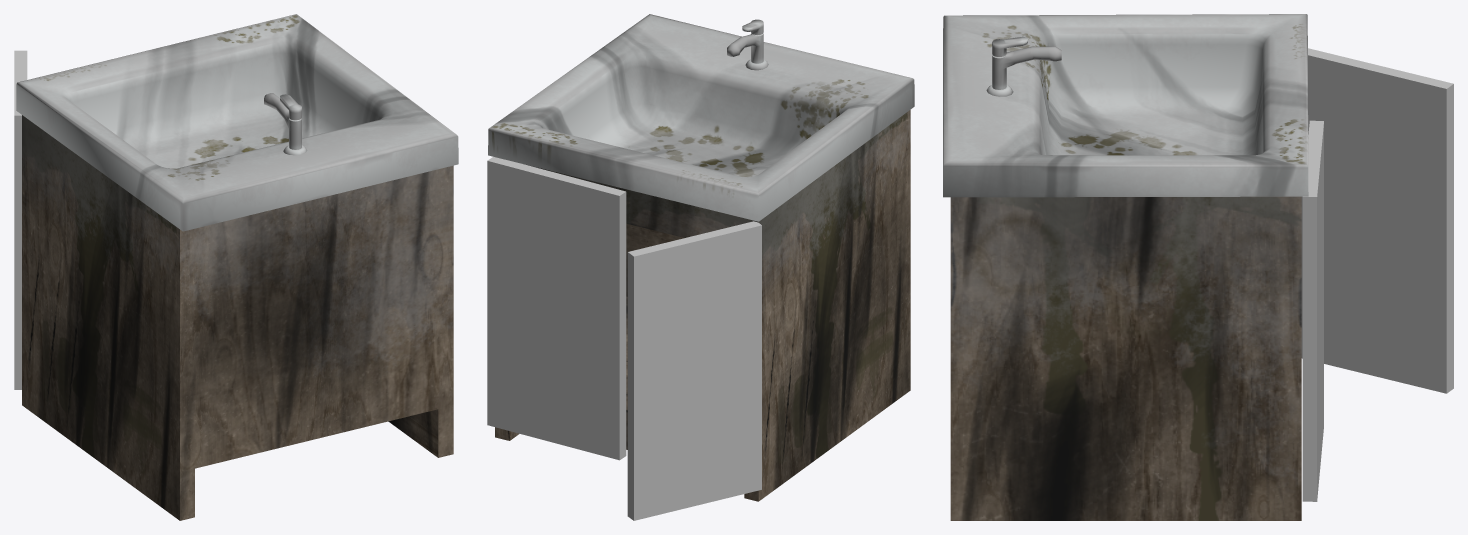
File: Table.fbx
3 renders of one model, left to right at view 1: azimuth 30°, elevation 25°; view 2: azimuth 150°, elevation 25°; view 3: azimuth 270°, elevation 25°, orthographic. The views are drawn at different scales.
Visible parts, largest first — view 1: KitchenSink_Low, KitchenTable02Door02_Low.001; view 2: KitchenSink_Low, KitchenTable02Door01_Low.001, KitchenTable02Door02_Low.001; view 3: KitchenSink_Low, KitchenTable02Door02_Low.001, KitchenTable02Door01_Low.001.
Boxes of the visible parts, <box> form: KitchenSink_Low: <box>16,14,458,520</box>; KitchenTable02Door02_Low.001: <box>14,50,27,389</box>; KitchenSink_Low: <box>488,14,914,501</box>; KitchenTable02Door01_Low.001: <box>487,157,626,460</box>; KitchenTable02Door02_Low.001: <box>627,221,761,520</box>; KitchenSink_Low: <box>943,14,1308,520</box>; KitchenTable02Door02_Low.001: <box>1301,48,1453,393</box>; KitchenTable02Door01_Low.001: <box>1302,120,1323,501</box>.
Bounding box in the file's own units: 73.83 × 91.46 × 104.
